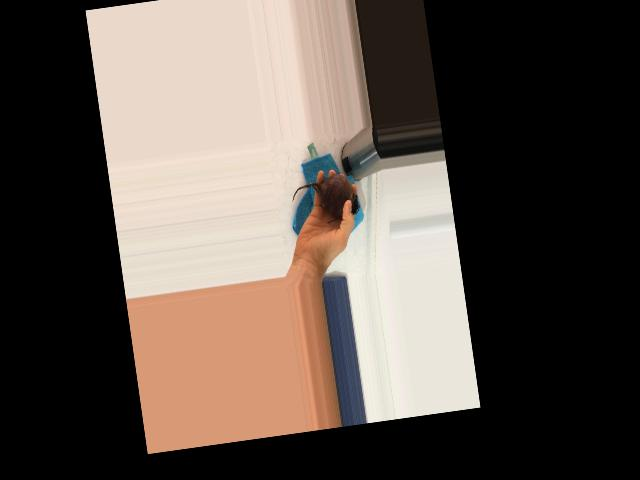beet: (289, 171, 360, 226)
